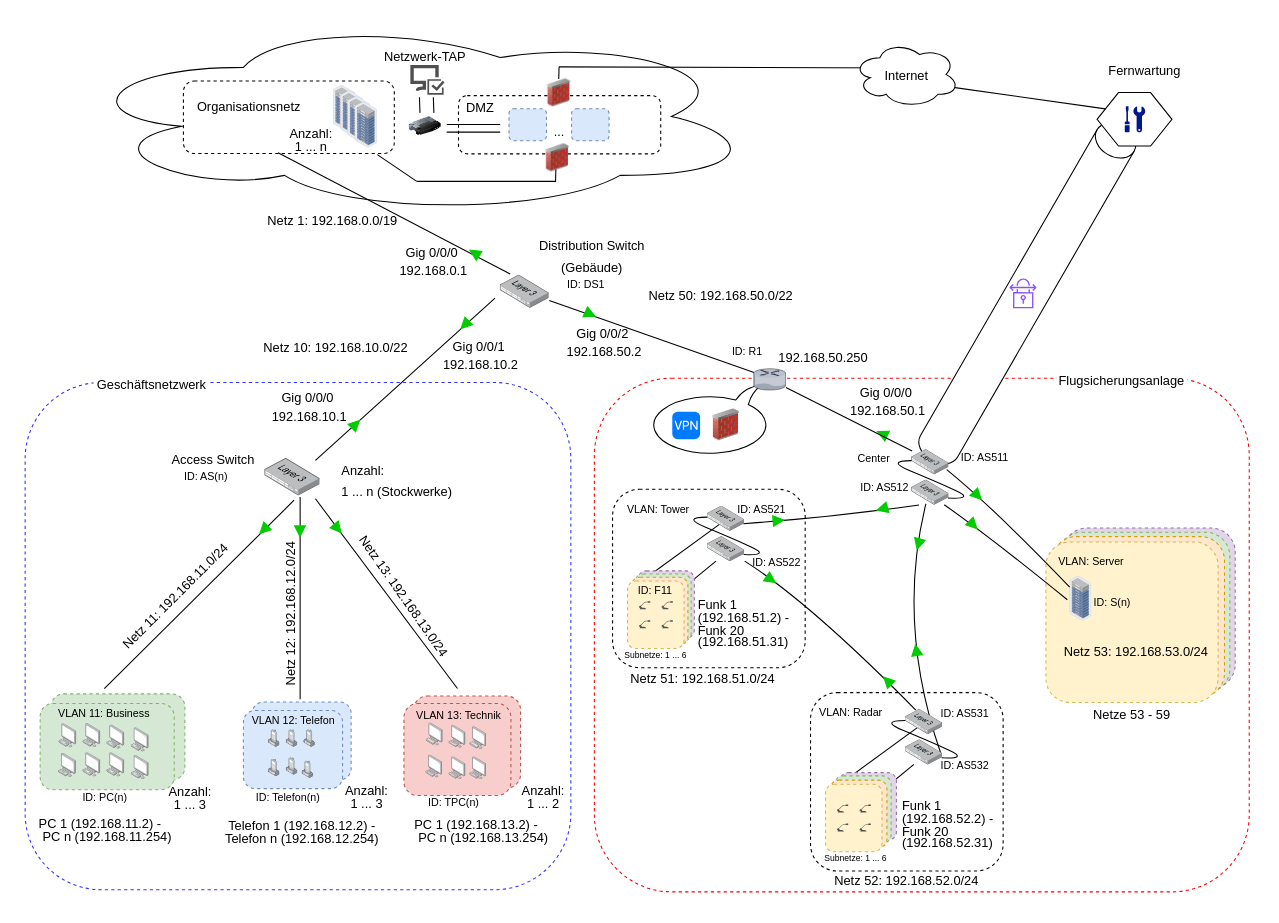
Image size: 1279x923. Some labels were removed from this diagram. Each missing label, with the centre of its shape:
"ID: F12" goes at point 853,817.
"n DMZ" goes at point 590,124.
"VoIP DMZ" goes at point 527,124.
